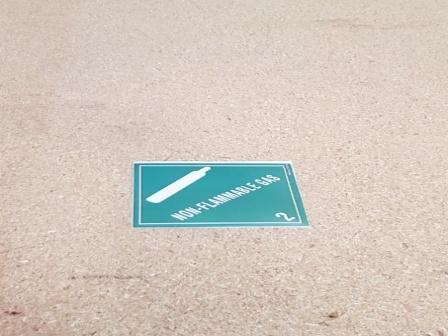non-flammable-gas: (131, 161, 311, 228)
